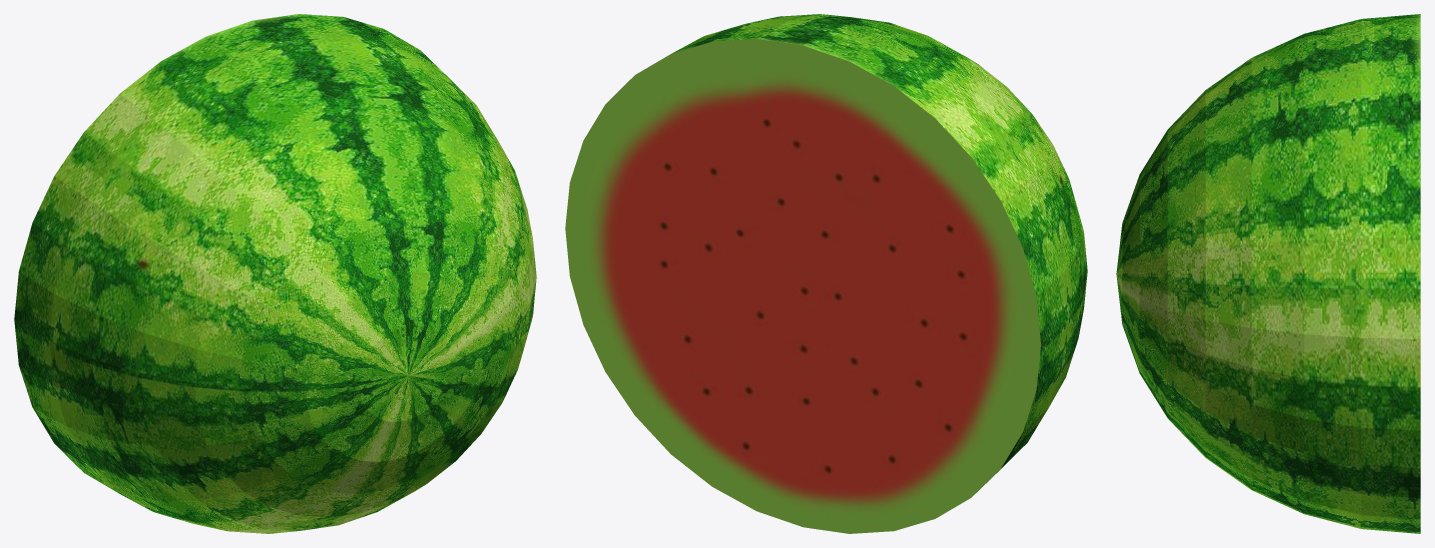
File: WaterMelonPart1.fbx
3 views of the same model, side by side, from view 1: azimuth 30°, elevation 25°; view 2: azimuth 150°, elevation 25°; view 3: azimuth 270°, elevation 25° (orthographic). The views are drawn at different scales.
Visible parts, largest first — view 1: WaterMelonPart1; view 2: WaterMelonPart1; view 3: WaterMelonPart1.
Boxes of the visible parts, bbox=[...] form: WaterMelonPart1: bbox=[14, 14, 536, 533]; WaterMelonPart1: bbox=[565, 14, 1087, 533]; WaterMelonPart1: bbox=[1116, 14, 1420, 533].
Bounding box in the file's own units: 207 × 200 × 117.
1 material, 1 textured.
